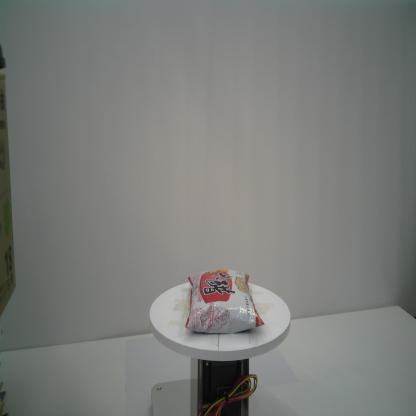Seasoner: (184, 264, 267, 336)
